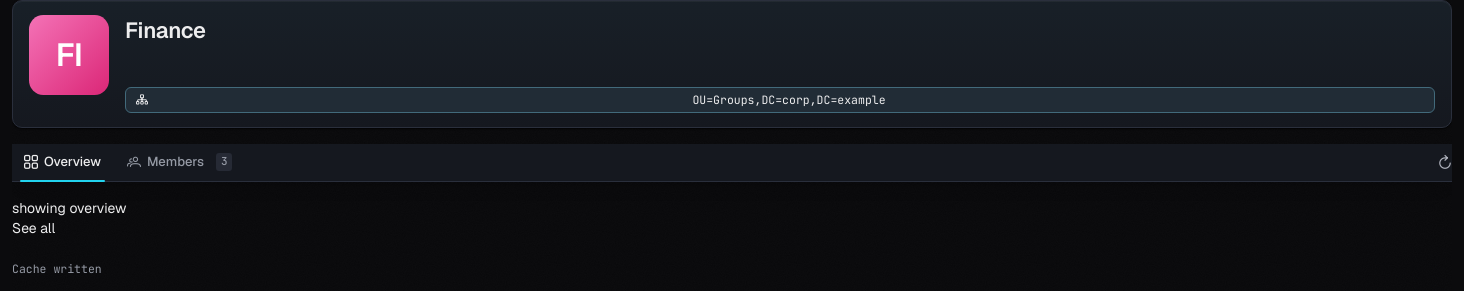
object page tabs › switches tab on click and keeps it in the URL
Expected: the element with class "body" shows "showing overview", [12, 199, 126, 217]
Click the tab with aria-label "Members" at x=180, y=162, box [115, 144, 244, 181]
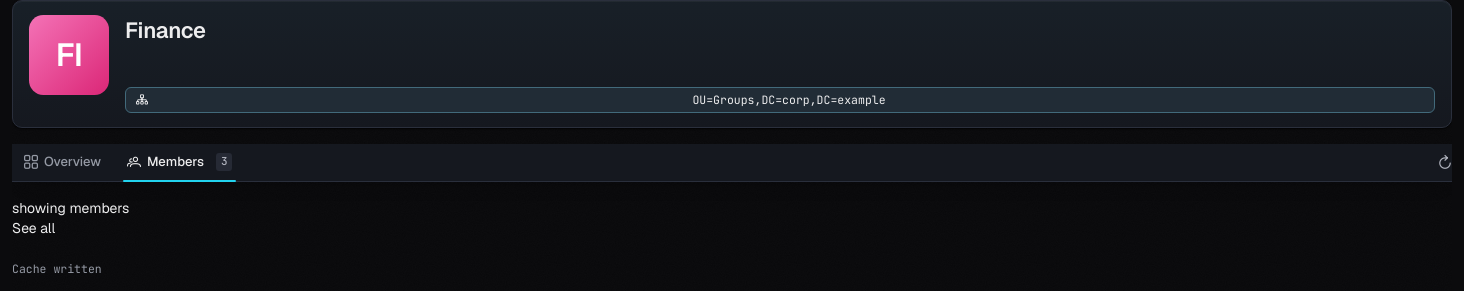
Now the element with class "body" shows "showing members", box [12, 199, 129, 217]
